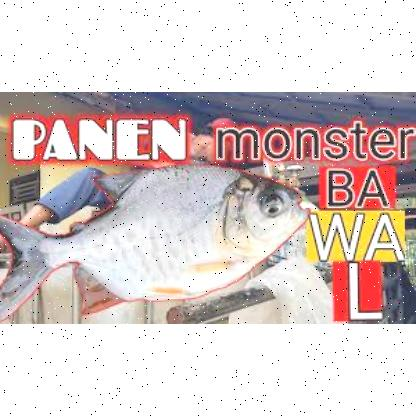ikan-pacu: (0, 164, 308, 307)
